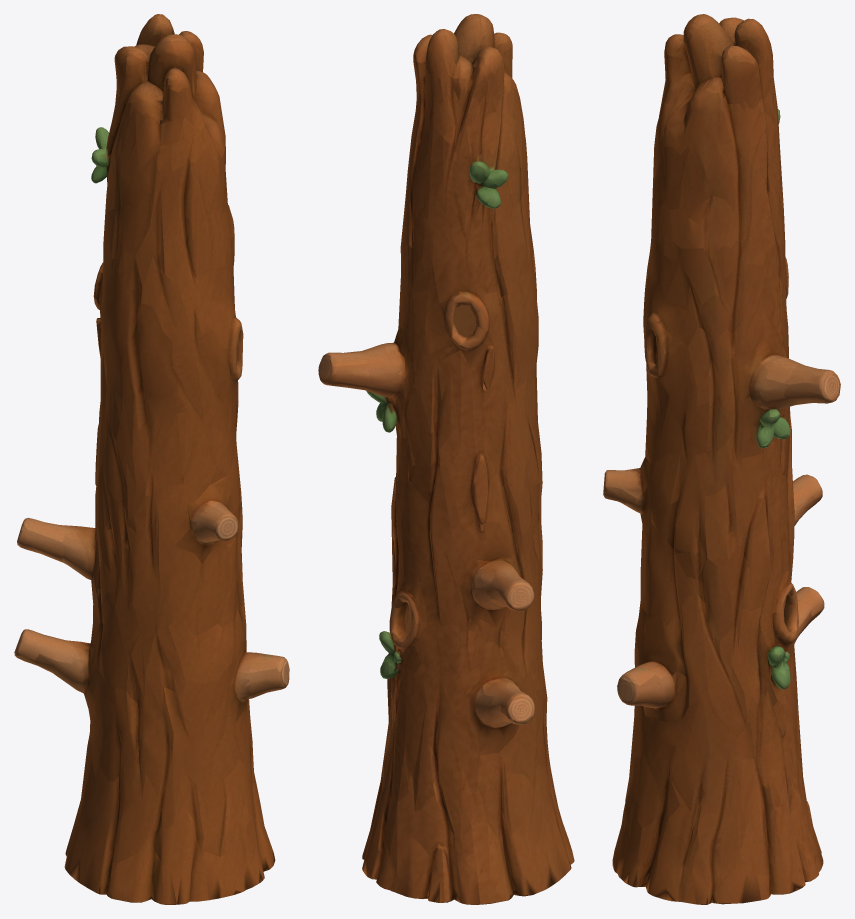
The model's file is forest-trunk.glb.
3 renders of one model, left to right at view 1: azimuth 30°, elevation 25°; view 2: azimuth 150°, elevation 25°; view 3: azimuth 270°, elevation 25°, orthographic.
Visible parts, largest first — view 1: forest-trunk; view 2: forest-trunk; view 3: forest-trunk.
Part boxes in pixels (bbox=[...]): forest-trunk: bbox=[14, 14, 289, 904]; forest-trunk: bbox=[318, 14, 574, 904]; forest-trunk: bbox=[603, 14, 840, 904].
Size of the model in its own units: 0.4863 by 1.9 by 0.4857.
Materials: 1 (1 with a texture image).
